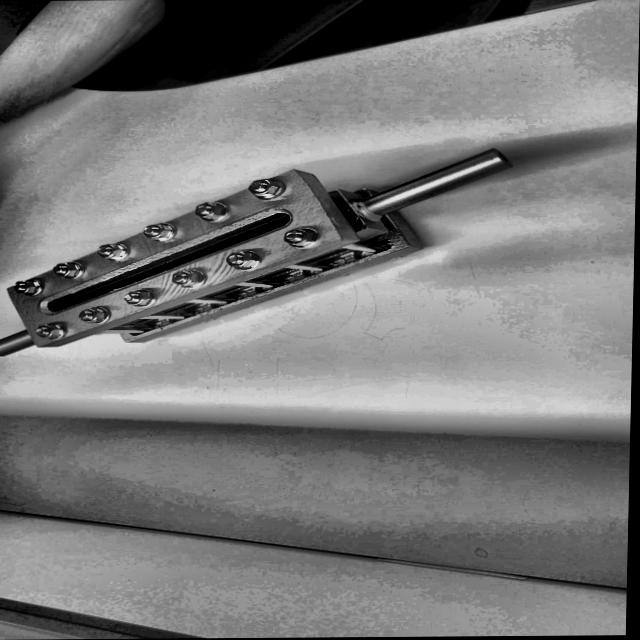ShuiWeiQi_12: (4, 147, 509, 365)
